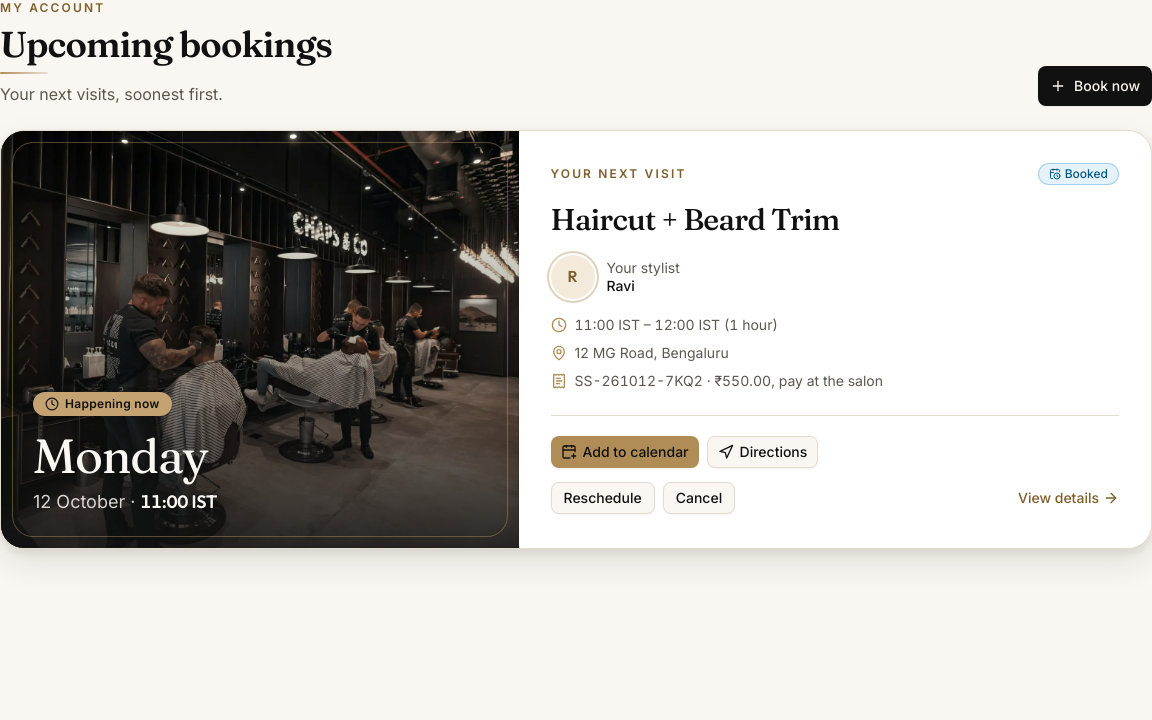
Scenario: customer account (05 §4.2) › a failed cancel keeps the dialog open with the reason
Click the button "Cancel".
click(699, 498)  # box [663,482,735,514]
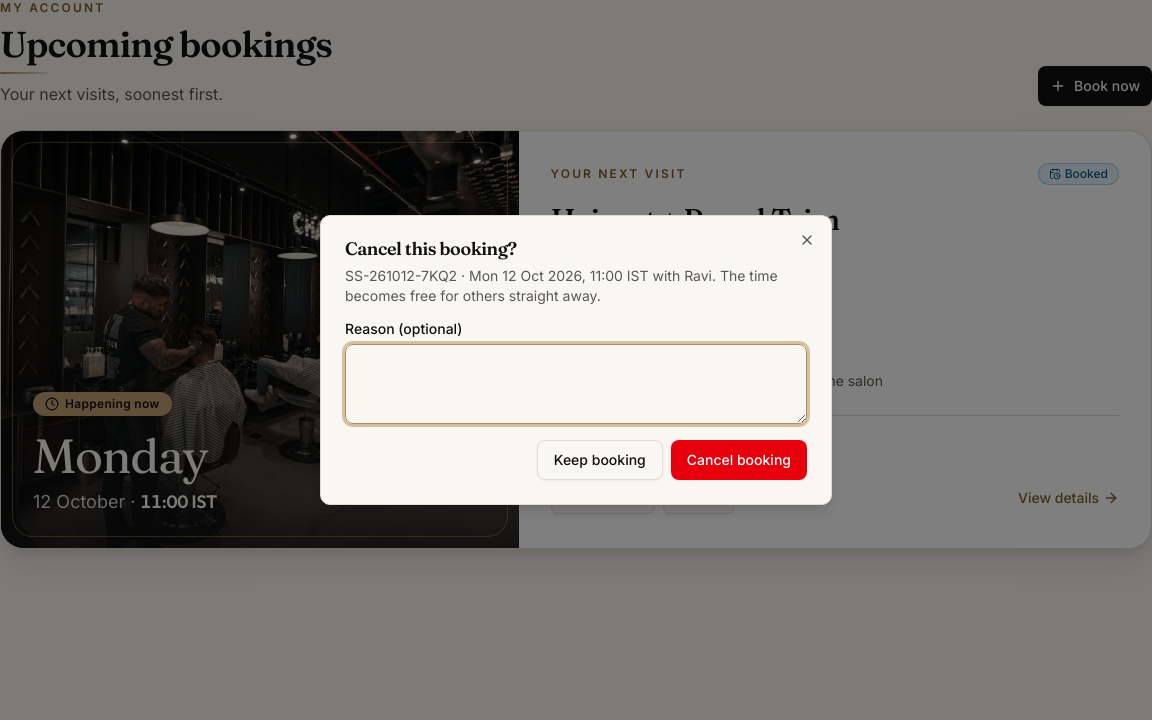
Click the button "Cancel booking".
click(739, 460)  # box [671,440,807,480]
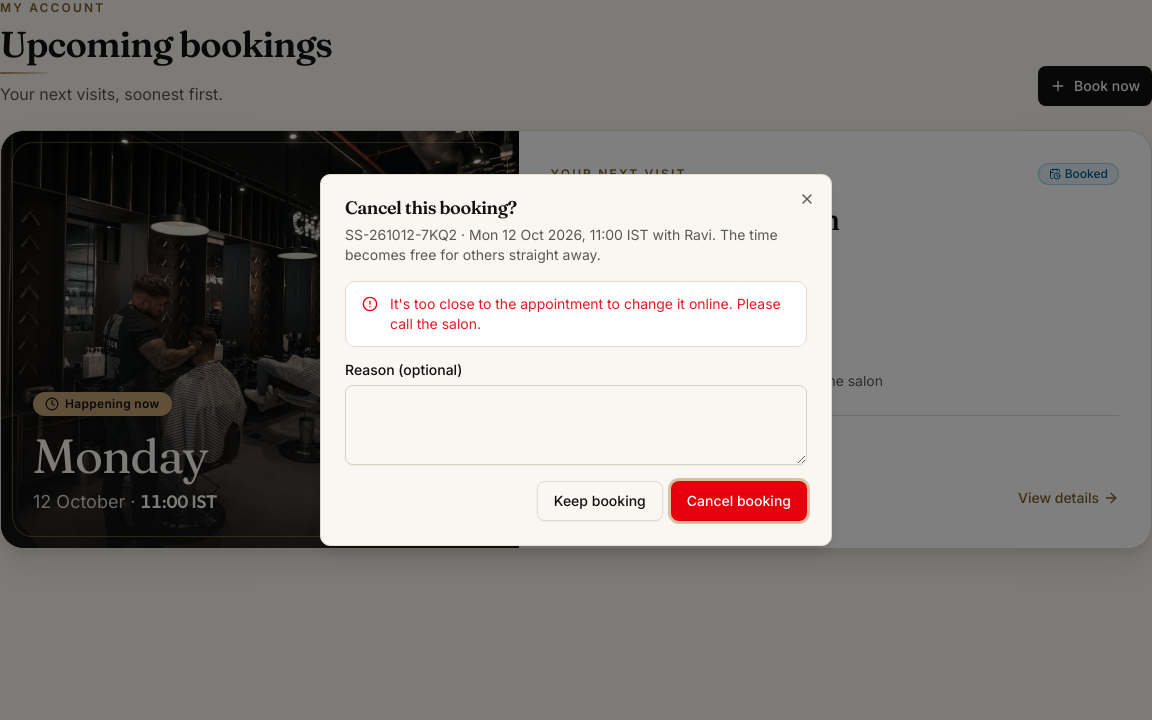
Result: the message shows "too close to the appointment" at [390,295,781,332]
